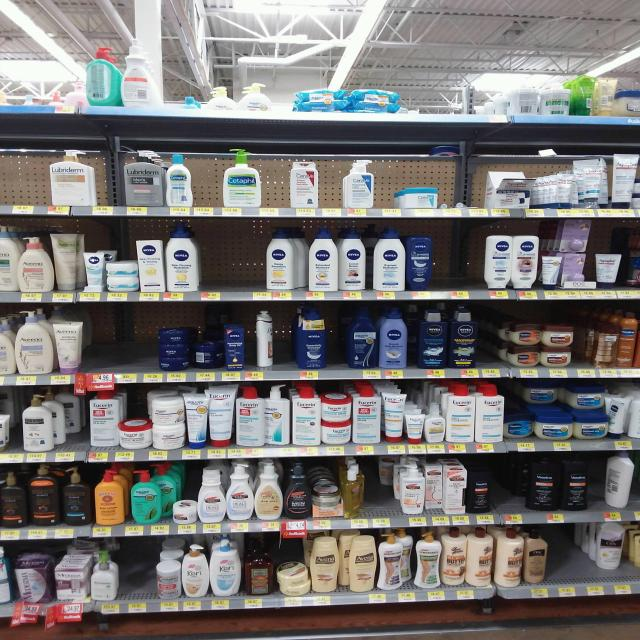empty_space: (90, 314, 148, 366), (205, 237, 259, 287), (436, 245, 480, 287), (0, 157, 40, 202), (120, 545, 152, 587), (555, 538, 585, 578)
